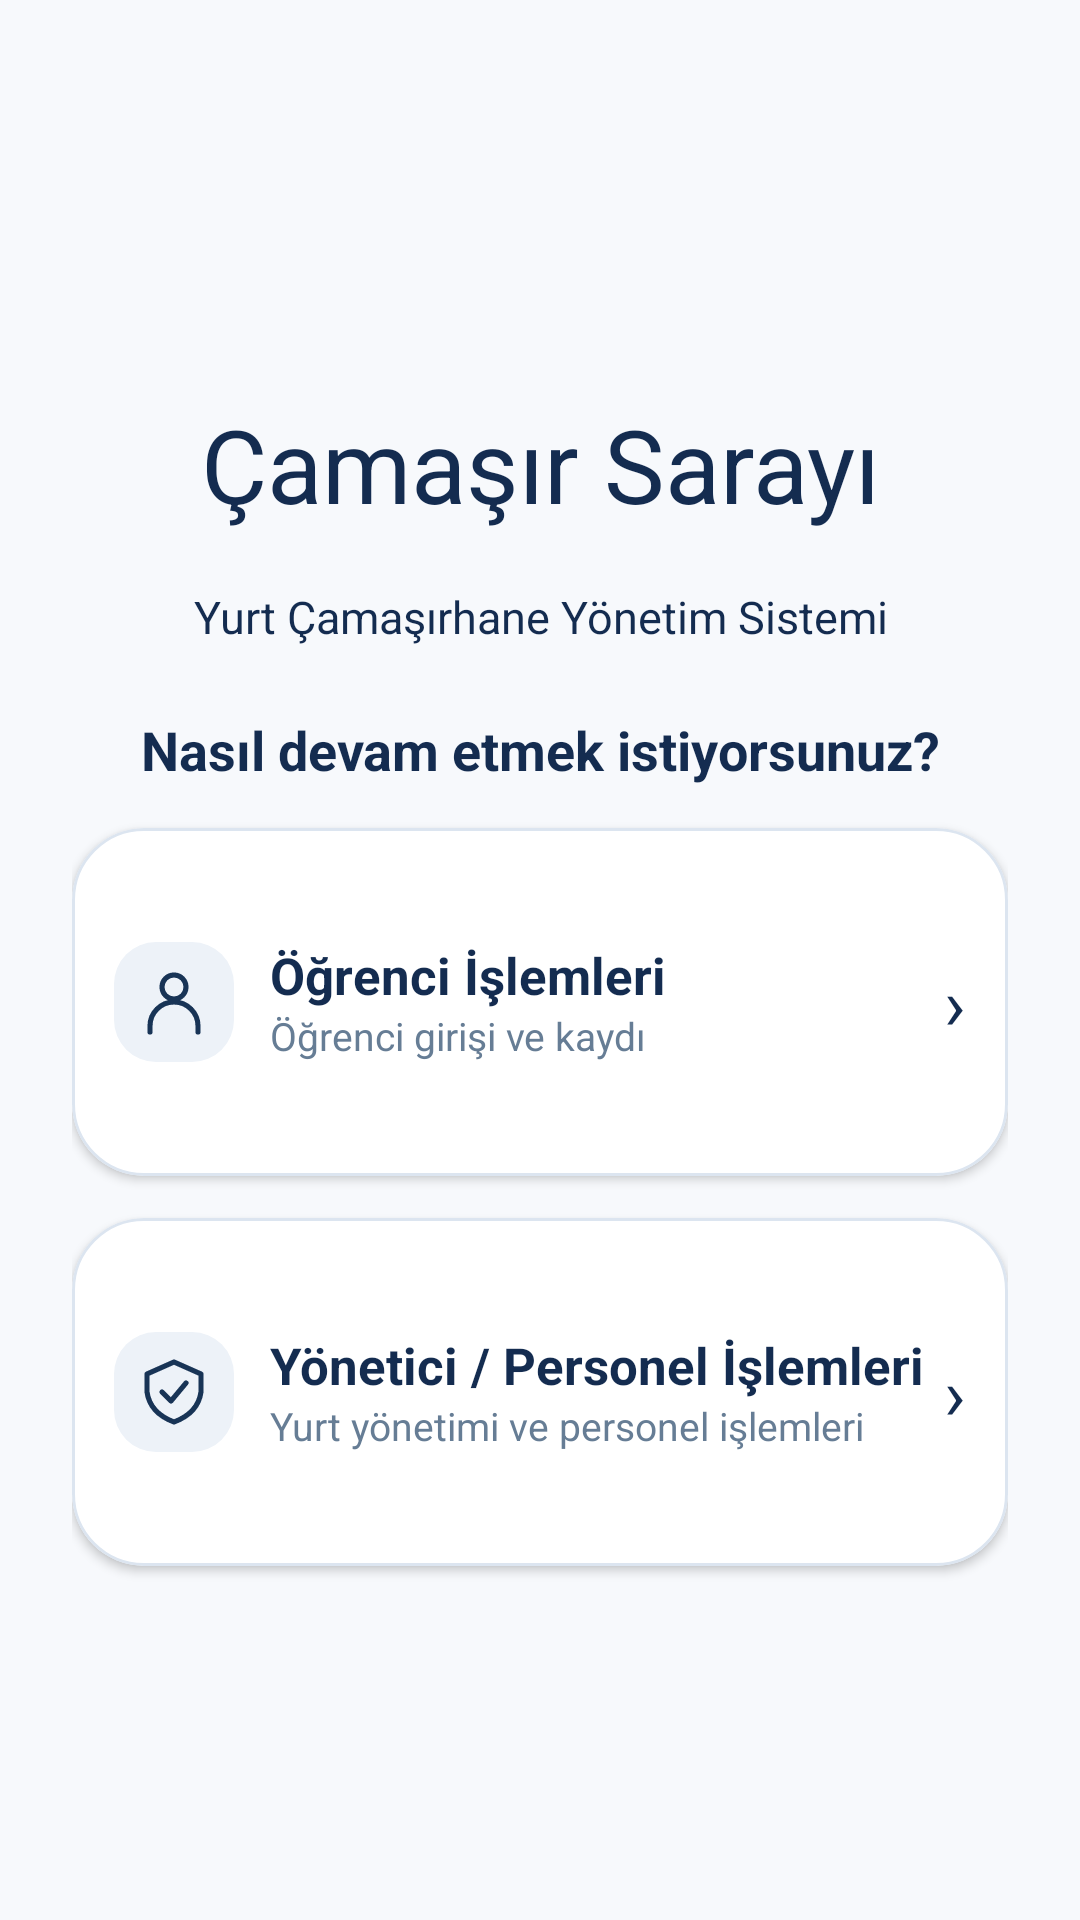

Screen size 1080 × 1920. Icon name, then its center in pixels as (x=x, y=y):
profile: (x=174, y=1002)
shield: (x=174, y=1392)
